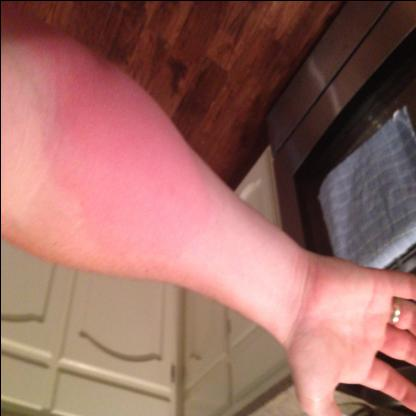Wasp: (89, 53, 143, 251), (38, 47, 89, 197), (143, 90, 181, 254), (182, 142, 216, 246)
